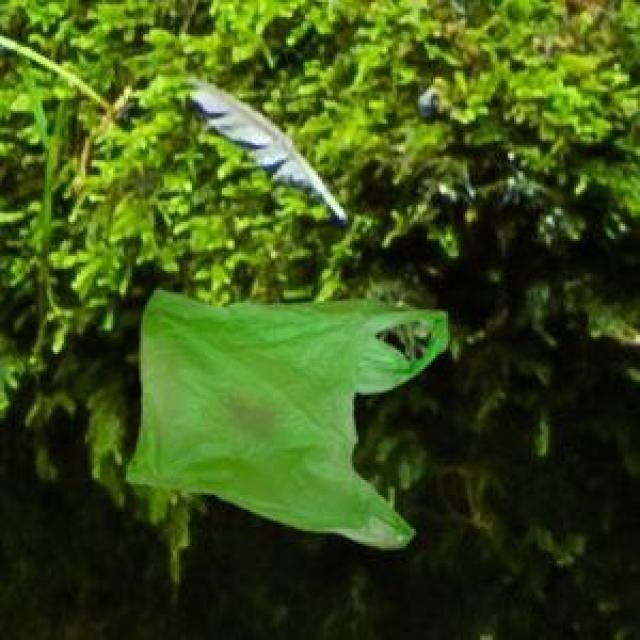waste: (128, 291, 448, 548)
